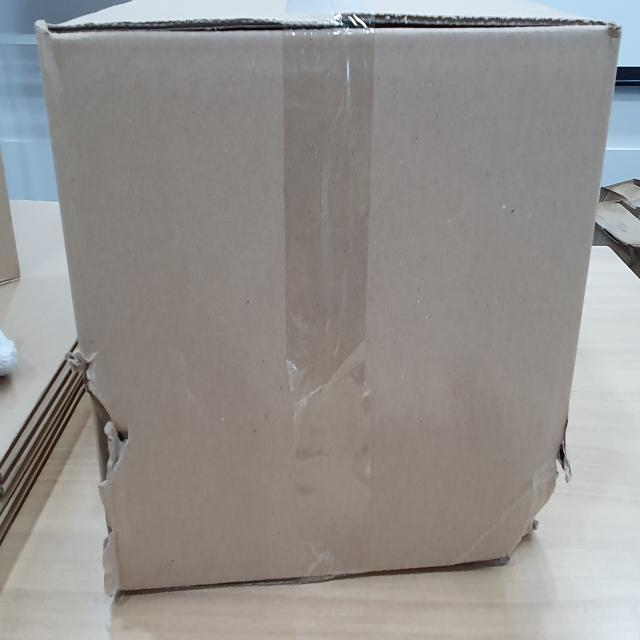hole: (500, 425, 570, 563), (85, 371, 143, 494)
